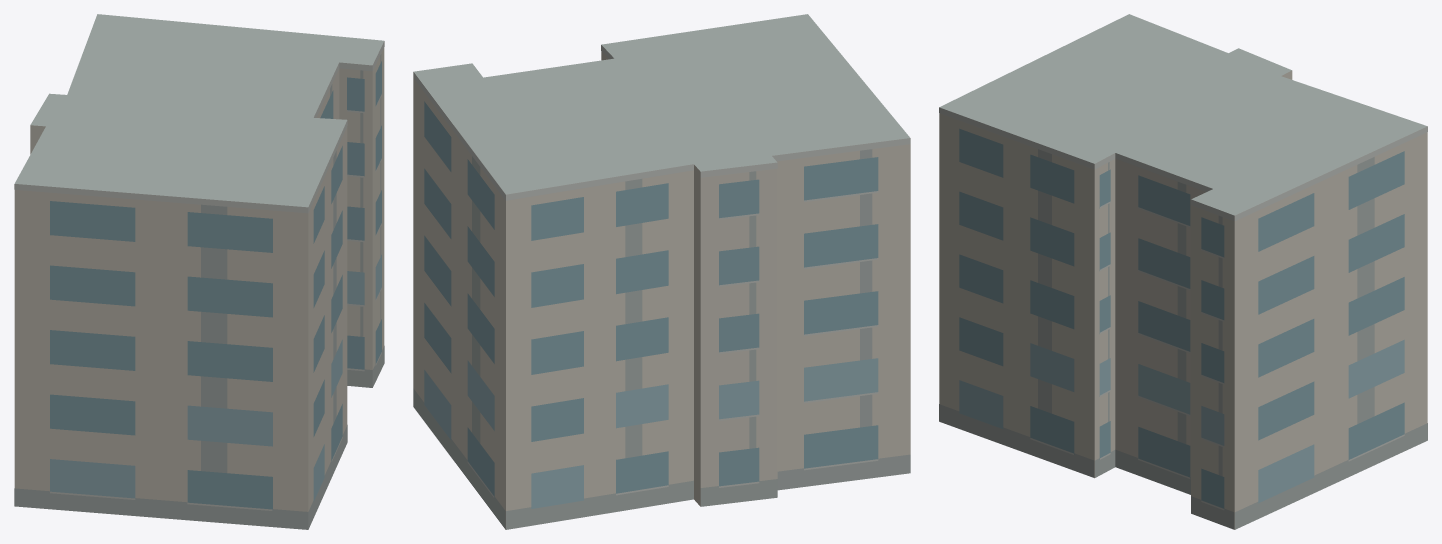
File: survey-upis-32884733.glb
3 renders of one model, left to right at view 1: azimuth 30°, elevation 25°; view 2: azimuth 150°, elevation 25°; view 3: azimuth 270°, elevation 25°, orthographic. The views are drawn at different scales.
Parts seen in each view (by area): view 1: survey-upis-32884733.tmp; view 2: survey-upis-32884733.tmp; view 3: survey-upis-32884733.tmp.
Boxes of the visible parts, x1,y1,x2,y2 form: survey-upis-32884733.tmp: [14, 14, 384, 529]; survey-upis-32884733.tmp: [413, 14, 910, 529]; survey-upis-32884733.tmp: [939, 14, 1427, 529].
Bounding box in the file's own units: 18.17 × 13.2 × 18.61.
